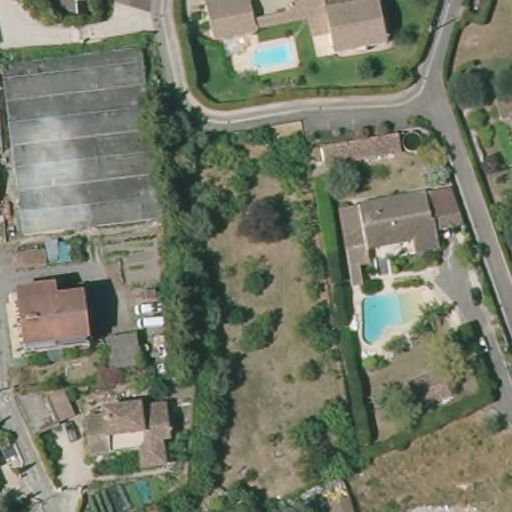pool: (344, 284, 433, 349), (244, 39, 299, 74)
